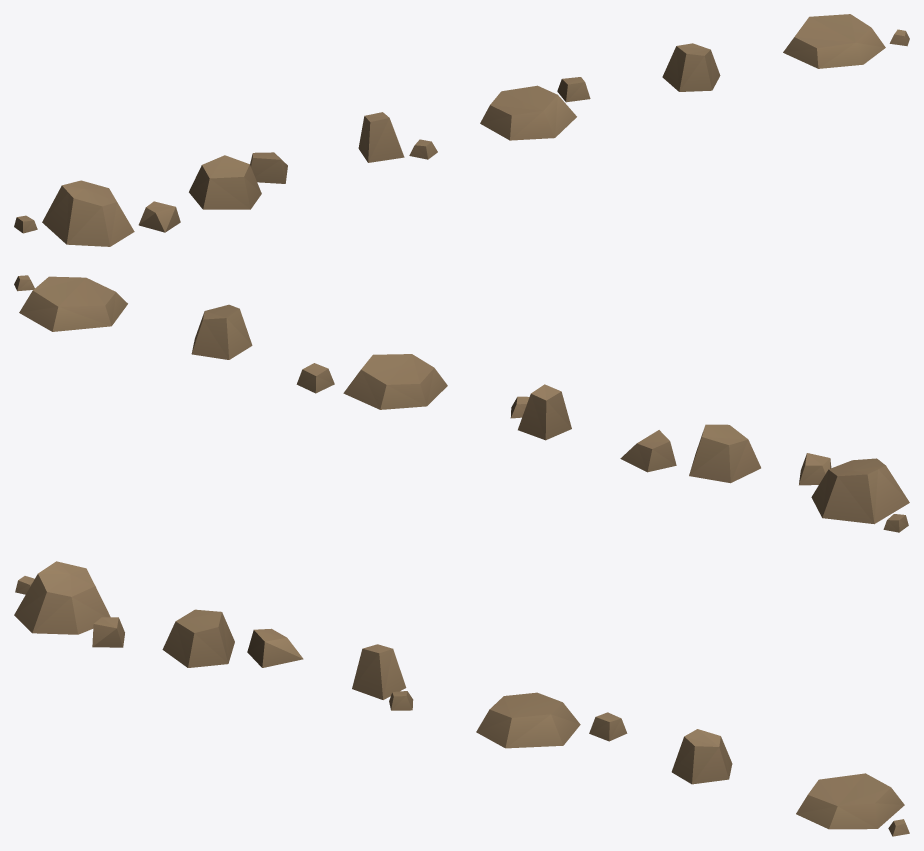
Rendered from rocks.glb.
3 views of the same model, one above another, from view 1: azimuth 30°, elevation 25°; view 2: azimuth 150°, elevation 25°; view 3: azimuth 330°, elevation 25° (orthographic). The views are drawn at different scales.
Parts seen in each view (by area): view 1: rock_big, rock_low, rock_slab, rock_twin, rock_block, rock_spire; view 2: rock_big, rock_low, rock_slab, rock_twin, rock_block, rock_spire; view 3: rock_big, rock_low, rock_slab, rock_twin, rock_spire, rock_block.
Part boxes in pixels (bbox=[...]): rock_big: bbox=[14, 180, 180, 246]; rock_low: bbox=[480, 77, 590, 140]; rock_slab: bbox=[783, 14, 909, 68]; rock_twin: bbox=[189, 152, 287, 209]; rock_block: bbox=[662, 43, 720, 91]; rock_spire: bbox=[358, 112, 437, 162]; rock_big: bbox=[799, 453, 909, 532]; rock_low: bbox=[296, 354, 447, 409]; rock_slab: bbox=[14, 275, 127, 331]; rock_twin: bbox=[620, 424, 760, 483]; rock_block: bbox=[191, 304, 252, 359]; rock_spire: bbox=[510, 384, 571, 440]; rock_big: bbox=[14, 561, 124, 647]; rock_low: bbox=[476, 692, 627, 748]; rock_slab: bbox=[796, 773, 909, 836]; rock_twin: bbox=[162, 609, 303, 667]; rock_spire: bbox=[352, 644, 413, 710]; rock_block: bbox=[671, 729, 732, 784].
Size of the model in its own units: 40.62 by 1.74 by 4.23.
